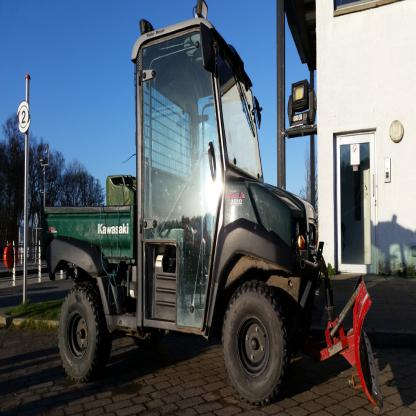Truck: (55, 17, 366, 393)
